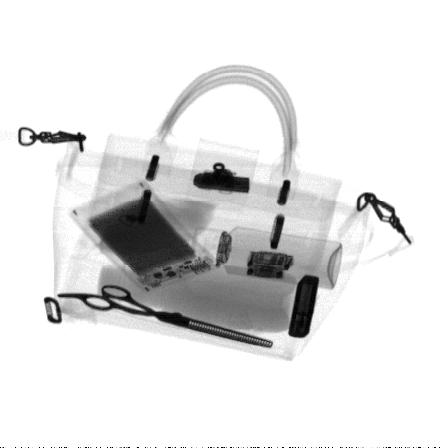Lighter: (290, 276, 317, 338)
Powerbank: (69, 179, 216, 295)
Scissors: (57, 284, 275, 349)
Sprayer: (193, 225, 344, 289)
